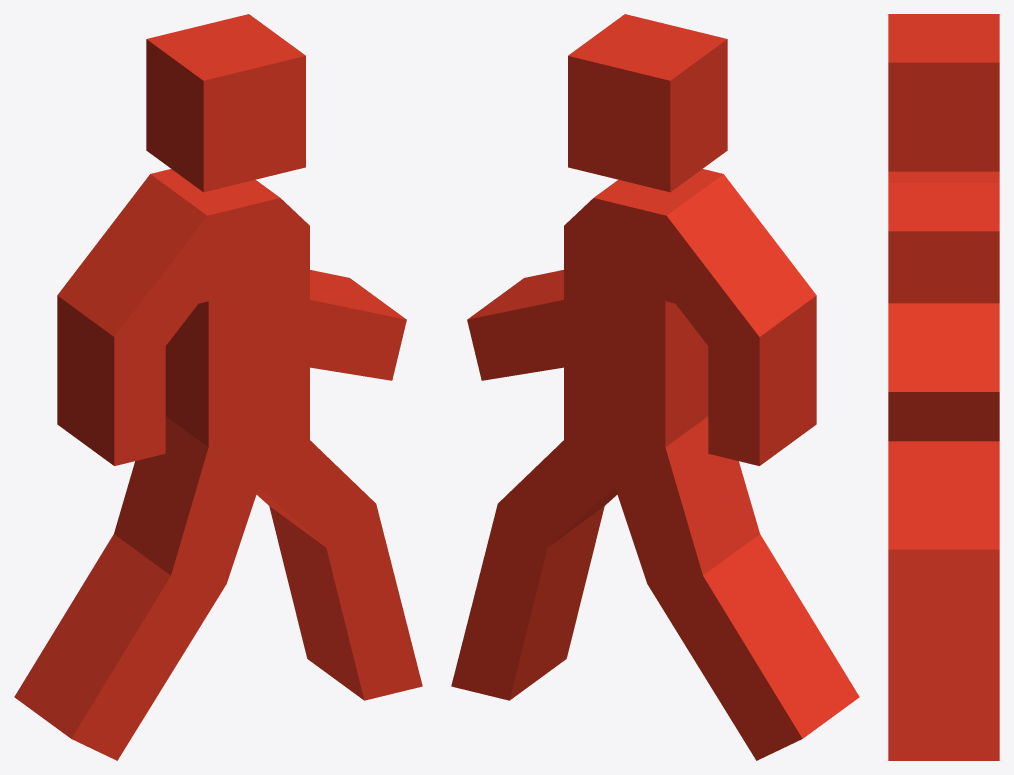
The model's file is Icon_Human_01.fbx.
3 views of the same model, side by side, from view 1: azimuth 30°, elevation 25°; view 2: azimuth 150°, elevation 25°; view 3: azimuth 270°, elevation 25° (orthographic). The views are drawn at different scales.
Visible parts, largest first — view 1: Icon_Human_01; view 2: Icon_Human_01; view 3: Icon_Human_01.
Boxes of the visible parts, left/top/right/bottom form: Icon_Human_01: left=14, top=14, right=422, bottom=760; Icon_Human_01: left=451, top=14, right=859, bottom=760; Icon_Human_01: left=888, top=14, right=999, bottom=760.
Bounding box in the file's own units: 40.01 × 71.69 × 11.26.
